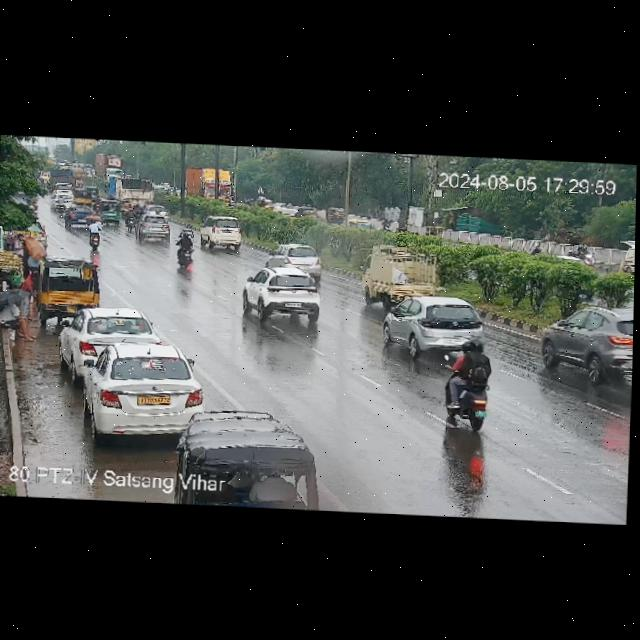car: (83, 341, 204, 442), (534, 300, 634, 382), (63, 307, 169, 378), (379, 293, 483, 357), (35, 257, 103, 327), (248, 267, 320, 328), (201, 216, 244, 252), (269, 241, 321, 270), (136, 217, 171, 241), (97, 200, 124, 226), (145, 200, 170, 220), (76, 189, 93, 208)
motorcycle: (445, 341, 495, 429), (174, 233, 194, 269), (574, 243, 600, 267), (88, 220, 103, 250), (182, 224, 197, 247), (56, 195, 67, 218)
person: (0, 286, 36, 341), (12, 232, 26, 259)
truck: (357, 243, 431, 308), (182, 164, 233, 205), (106, 171, 157, 207), (93, 153, 124, 175), (46, 166, 75, 188)
